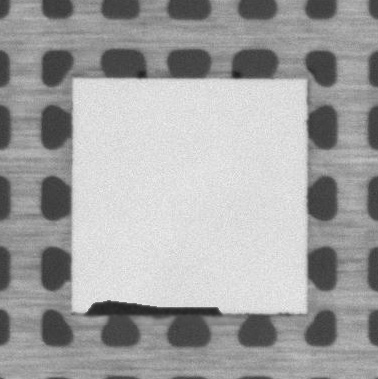DIE_BROKEN: (83, 298, 223, 319)
